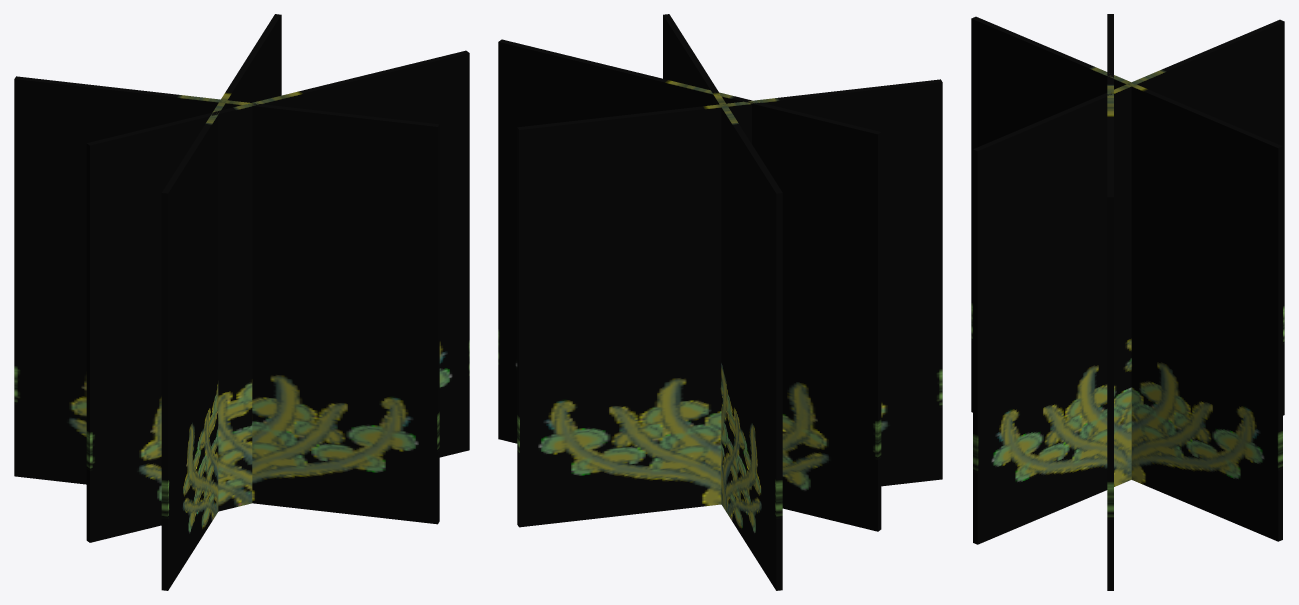
The model's file is Algae_4.obj.
3 views of the same model, side by side, from view 1: azimuth 30°, elevation 25°; view 2: azimuth 150°, elevation 25°; view 3: azimuth 270°, elevation 25° (orthographic).
Parts seen in each view (by area): view 1: polySurface21; view 2: polySurface21; view 3: polySurface21.
Part boxes in pixels (<box>): polySurface21: <box>14,14,469,590</box>; polySurface21: <box>498,14,942,590</box>; polySurface21: <box>971,14,1284,590</box>.
Bounding box in the file's own units: 4.48 × 4.48 × 3.23.
